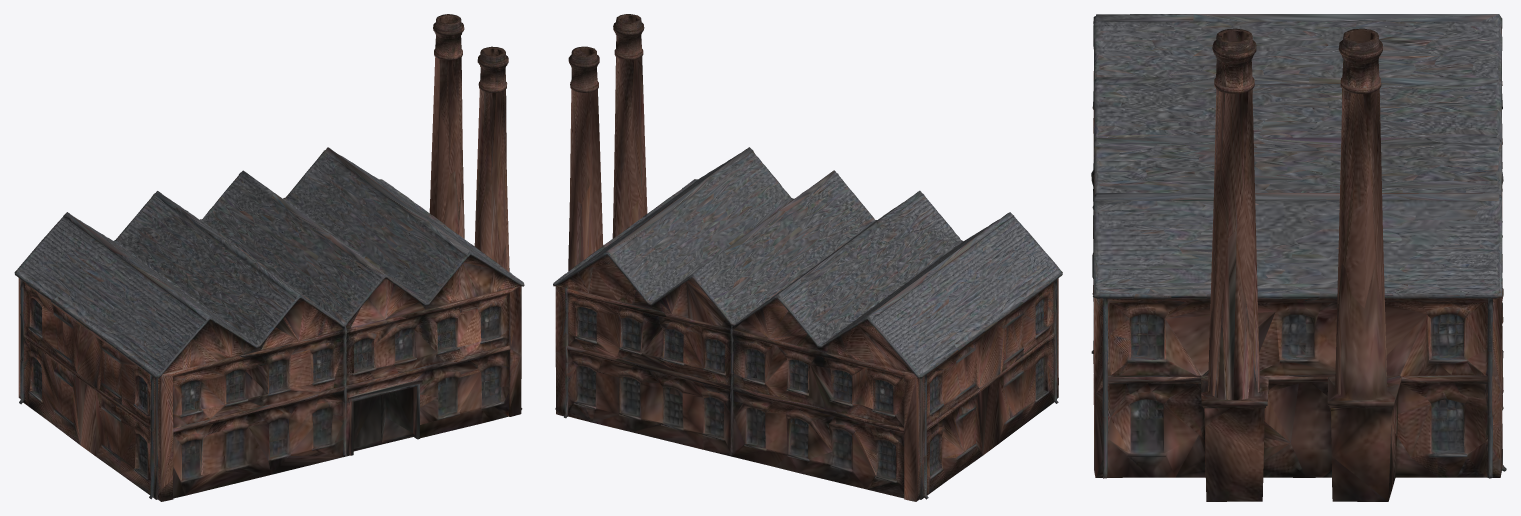
Rendered from brick-factory.glb.
3 views of the same model, side by side, from view 1: azimuth 30°, elevation 25°; view 2: azimuth 150°, elevation 25°; view 3: azimuth 270°, elevation 25° (orthographic). The views are drawn at different scales.
Visible parts, largest first — view 1: Mesh_0; view 2: Mesh_0; view 3: Mesh_0.
Part boxes in pixels (x1,y1,x2,y2): Mesh_0: [14, 14, 524, 501]; Mesh_0: [553, 14, 1062, 501]; Mesh_0: [1091, 14, 1506, 501].
Size of the model in its own units: 11.13 by 8.5 by 6.98.
Materials: 1 (1 with a texture image).
